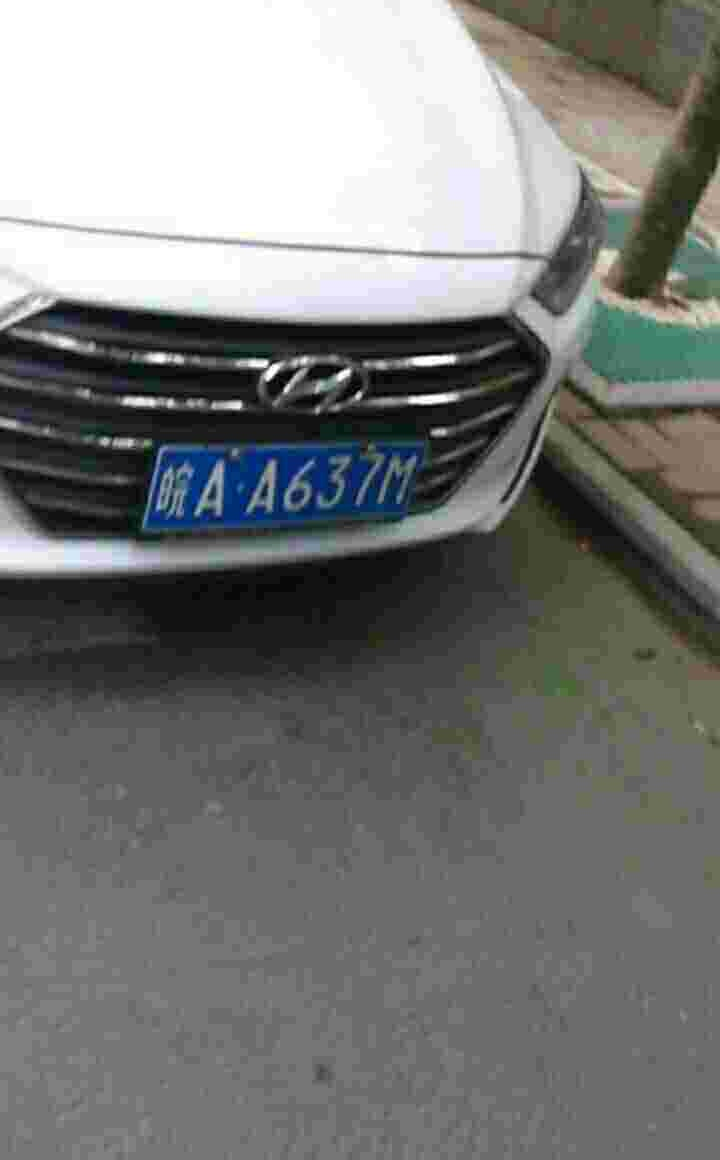license_plate: (141, 440, 420, 543)
